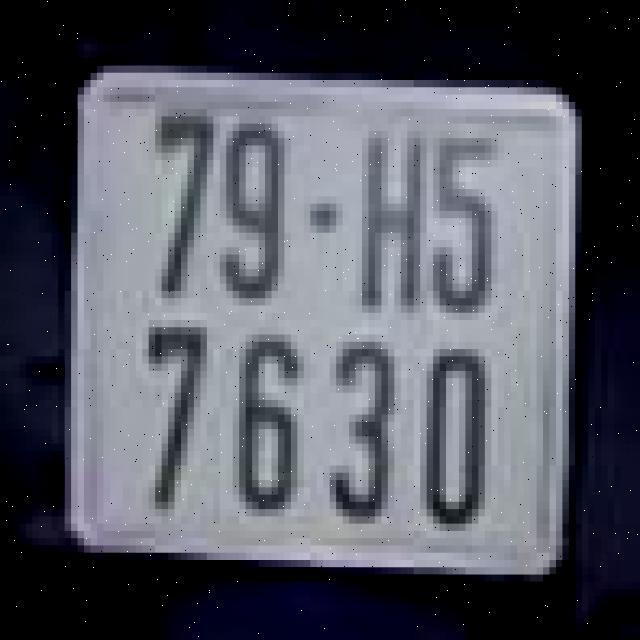0: (424, 349, 488, 531)
3: (333, 338, 398, 520)
6: (437, 134, 508, 316), (236, 338, 307, 513)
7: (142, 323, 207, 512), (155, 109, 213, 306)
9: (220, 120, 291, 302)
H: (356, 131, 426, 313)
